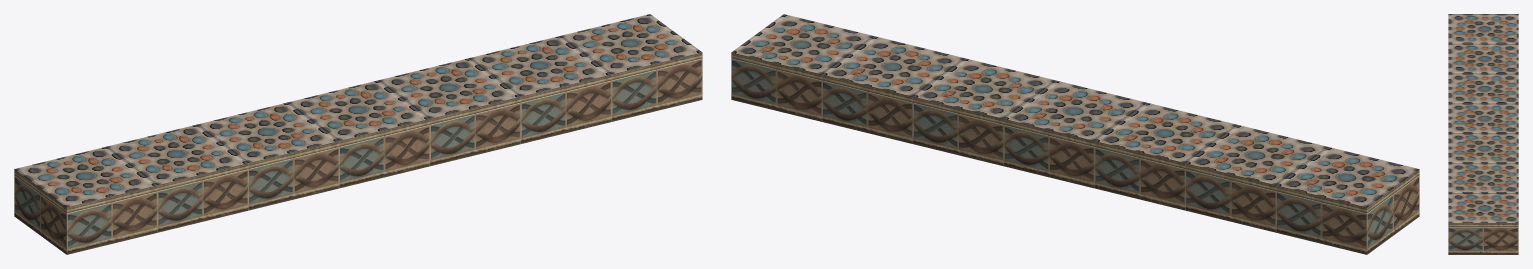
File: DI_009_pattern_block_var07.glb
3 renders of one model, left to right at view 1: azimuth 30°, elevation 25°; view 2: azimuth 150°, elevation 25°; view 3: azimuth 270°, elevation 25°, orthographic. The views are drawn at different scales.
Parts seen in each view (by area): view 1: Block.035, Block.037, Block.036, Block.041, Block.039, Block.038, Block.040; view 2: Block.035, Block.037, Block.036, Block.041, Block.039, Block.038, Block.040; view 3: Block.041, Block.037, Block.038, Block.039, Block.035, Block.036, Block.040.
Part boxes in pixels (x1,y1,x2,y2): Block.035: (14,147,157,254); Block.037: (196,102,339,210); Block.036: (106,125,248,232); Block.041: (559,14,702,121); Block.039: (378,58,520,166); Block.038: (287,80,429,188); Block.040: (469,36,611,143); Block.035: (1276,147,1419,254); Block.037: (1094,102,1237,210); Block.036: (1185,125,1327,232); Block.041: (731,14,874,121); Block.039: (913,58,1055,166); Block.038: (1004,80,1146,188); Block.040: (822,36,964,143); Block.041: (1448,193,1518,254); Block.037: (1448,73,1518,103); Block.038: (1448,103,1518,133); Block.039: (1448,133,1518,163); Block.035: (1448,14,1518,43); Block.036: (1448,44,1518,73); Block.040: (1448,163,1518,192).
Bounding box in the file's own units: 5.25 × 0.375 × 0.75.
Materials: 1 (1 with a texture image).
